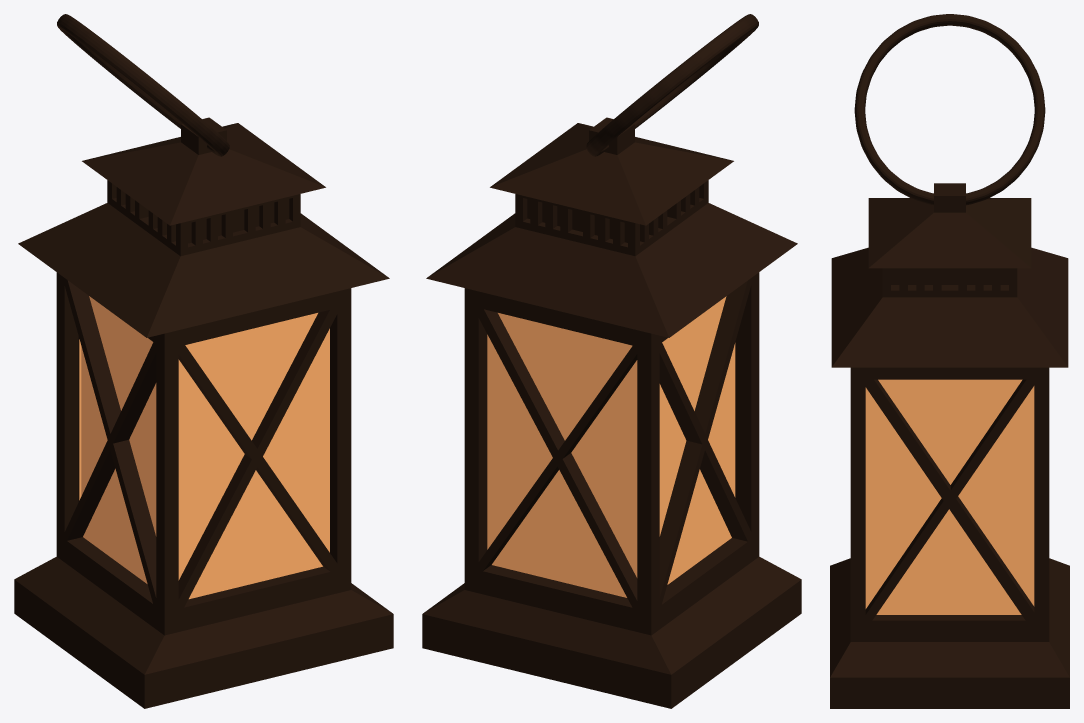
File: lantern with ring.fbx
3 renders of one model, left to right at view 1: azimuth 30°, elevation 25°; view 2: azimuth 150°, elevation 25°; view 3: azimuth 270°, elevation 25°, orthographic. The views are drawn at different scales.
Visible parts, largest first — view 1: Cube; view 2: Cube; view 3: Cube.
Part boxes in pixels (x1,y1,x2,y2): Cube: [14, 14, 393, 708]; Cube: [422, 14, 801, 708]; Cube: [830, 14, 1069, 708].
Bounding box in the file's own units: 718 × 1714 × 638.
